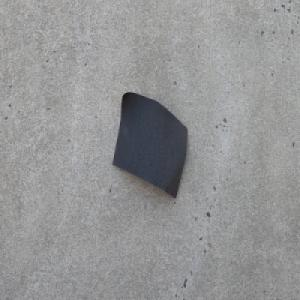PaintChip: (111, 86, 189, 200)
